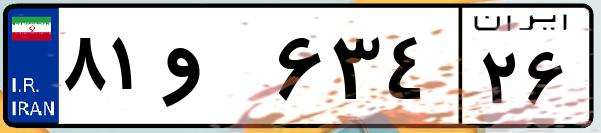1: (110, 28, 158, 98)
2: (475, 38, 525, 113)
3: (330, 28, 385, 110)
4: (385, 28, 445, 110)
6: (270, 28, 330, 110), (525, 38, 570, 115)
8: (57, 26, 110, 100)
و: (158, 20, 270, 120)
